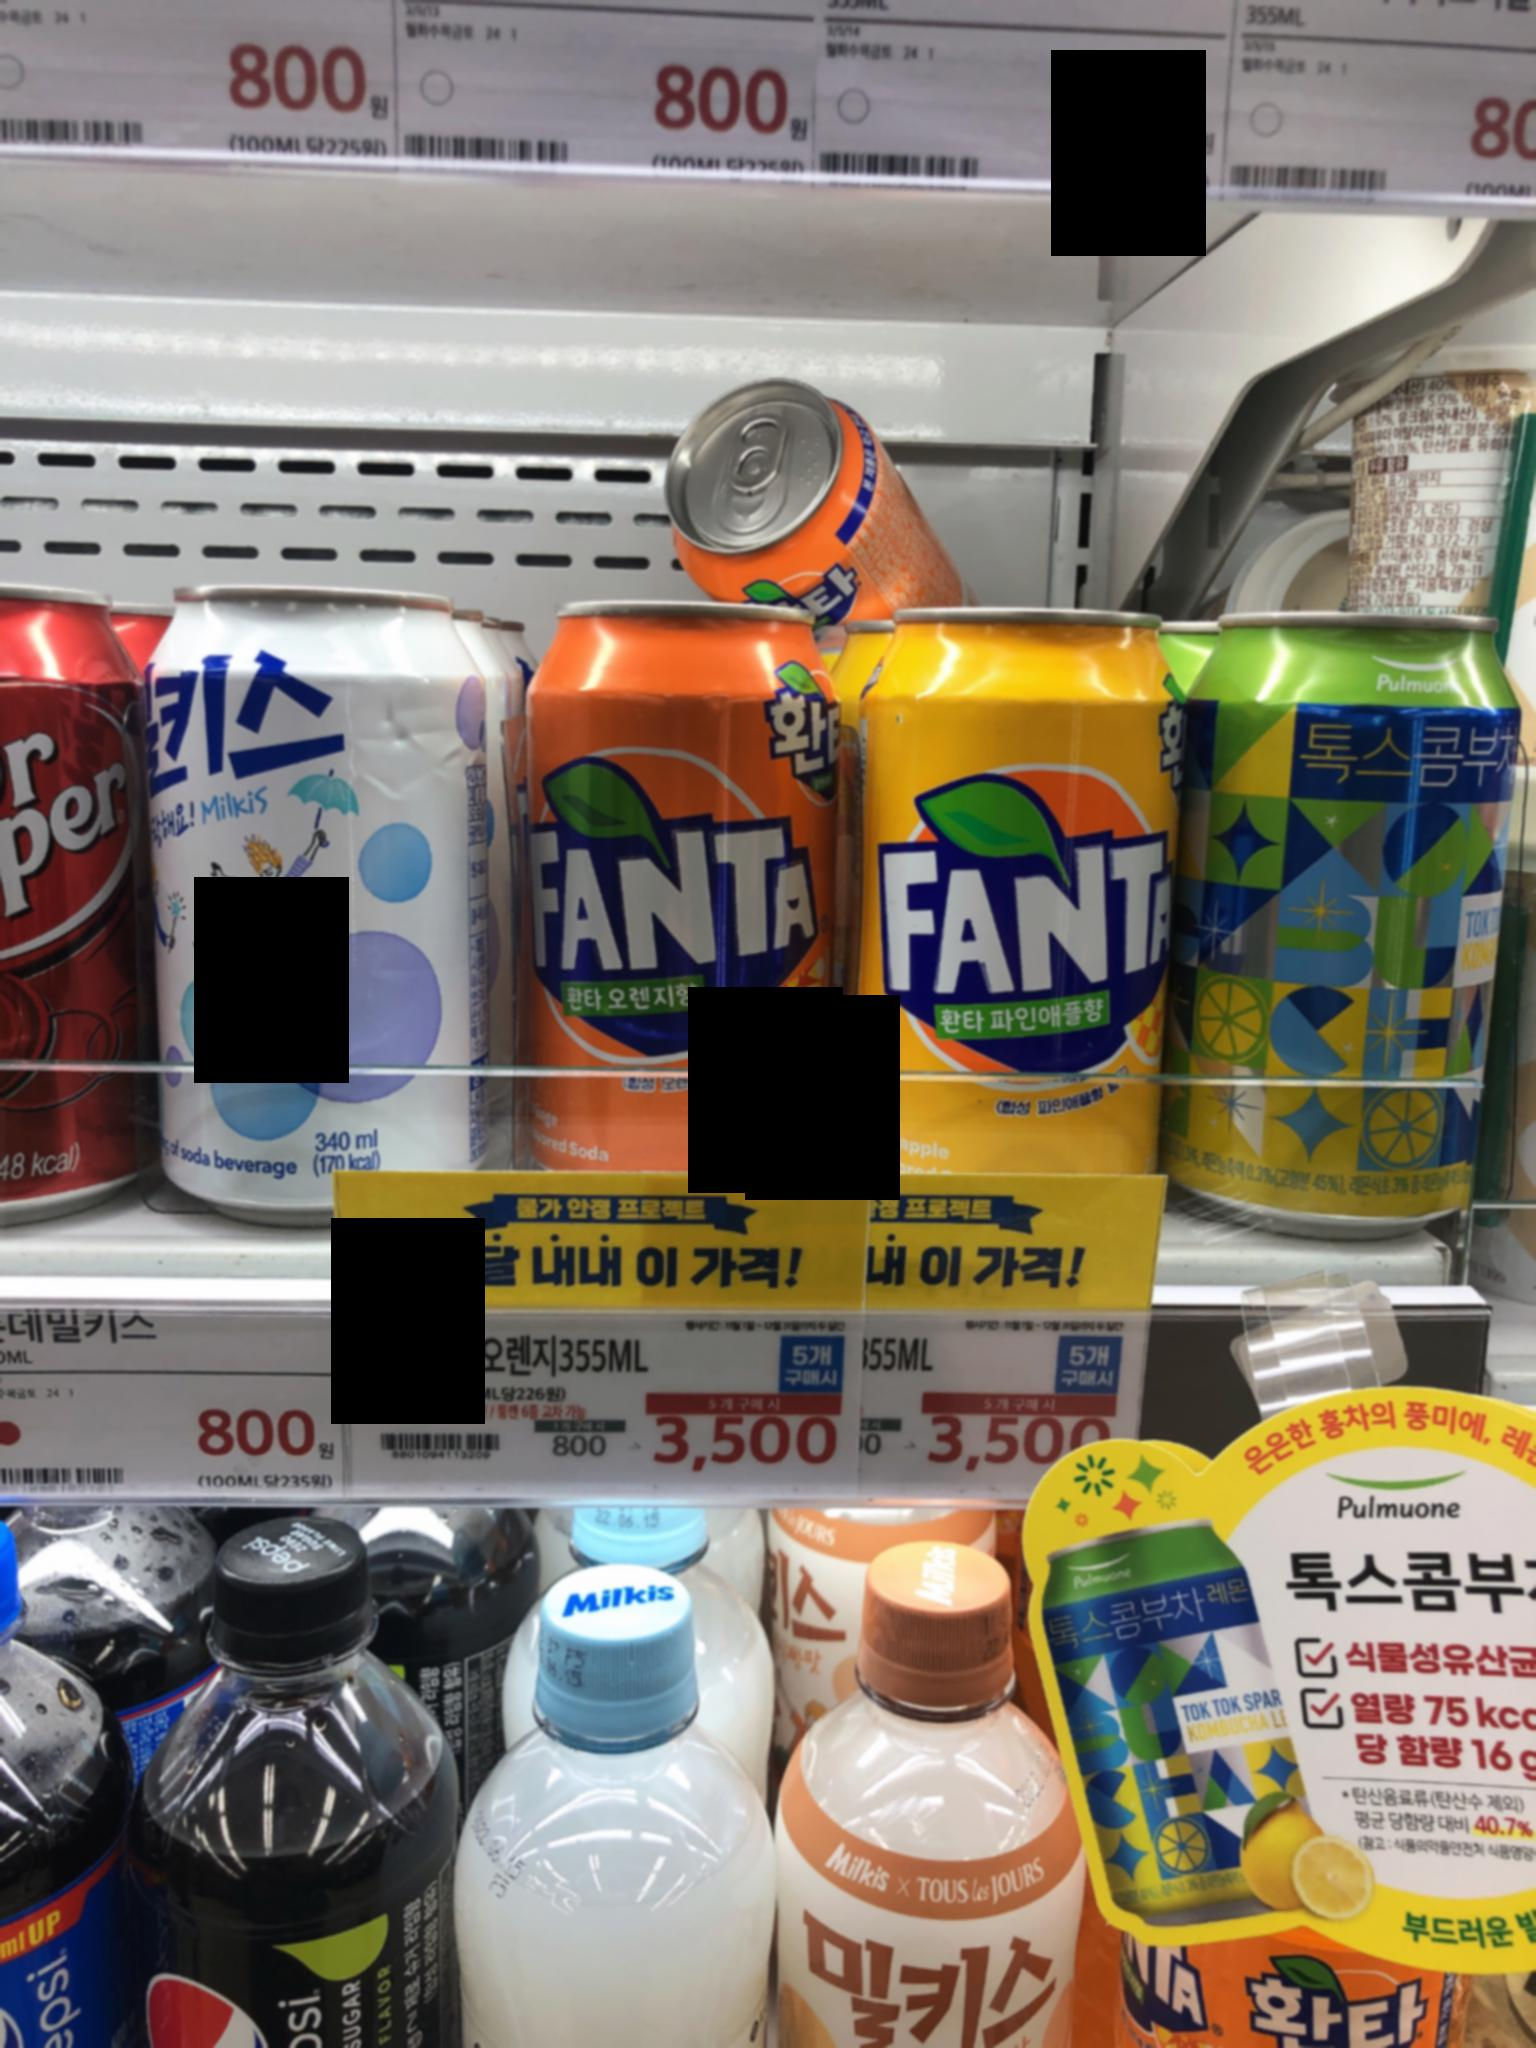fanta_orange: (523, 582, 845, 1150)
